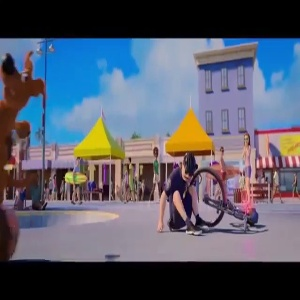Scooby: (1, 51, 45, 114)
